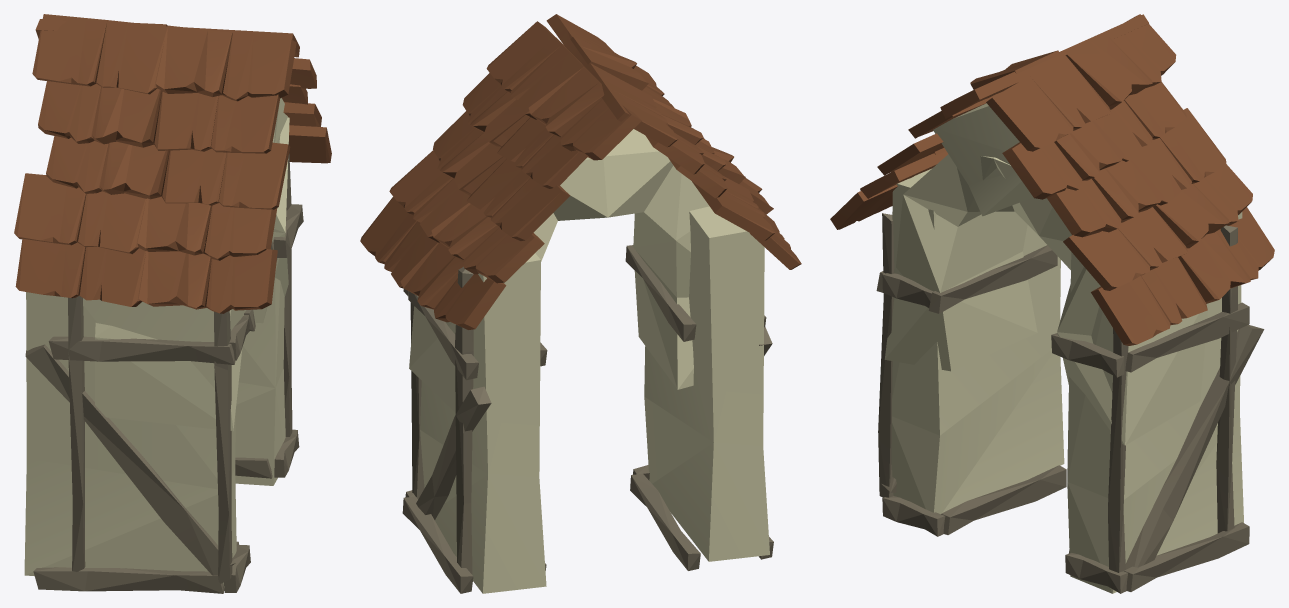
File: HenDoor.fbx
The picture shows the model from 3 angles, left to right: view 1: azimuth 30°, elevation 25°; view 2: azimuth 150°, elevation 25°; view 3: azimuth 270°, elevation 25°; orthographic projection. The views are drawn at different scales.
Visible parts, largest first — view 1: HenDoor_Merged; view 2: HenDoor_Merged; view 3: HenDoor_Merged.
Boxes of the visible parts, bbox=[...] form: HenDoor_Merged: bbox=[14, 14, 331, 593]; HenDoor_Merged: bbox=[360, 14, 801, 593]; HenDoor_Merged: bbox=[830, 14, 1274, 593].
Bounding box in the file's own units: 302 × 376 × 312.
